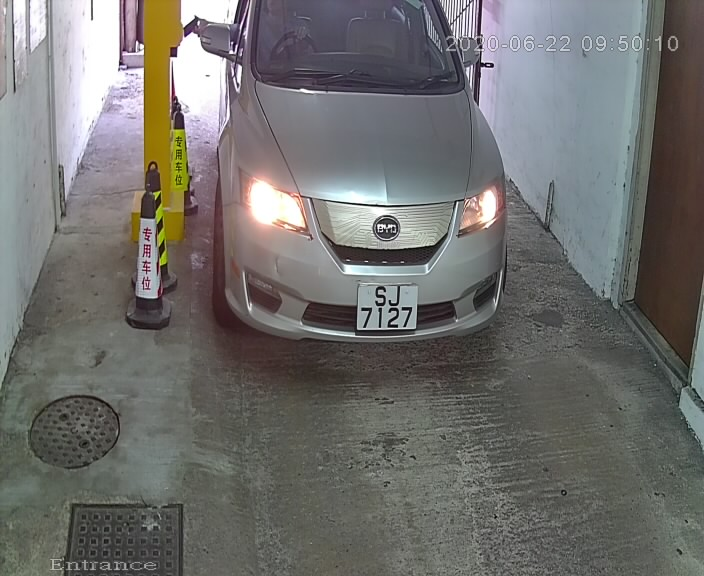privatecar: (169, 1, 544, 379)
